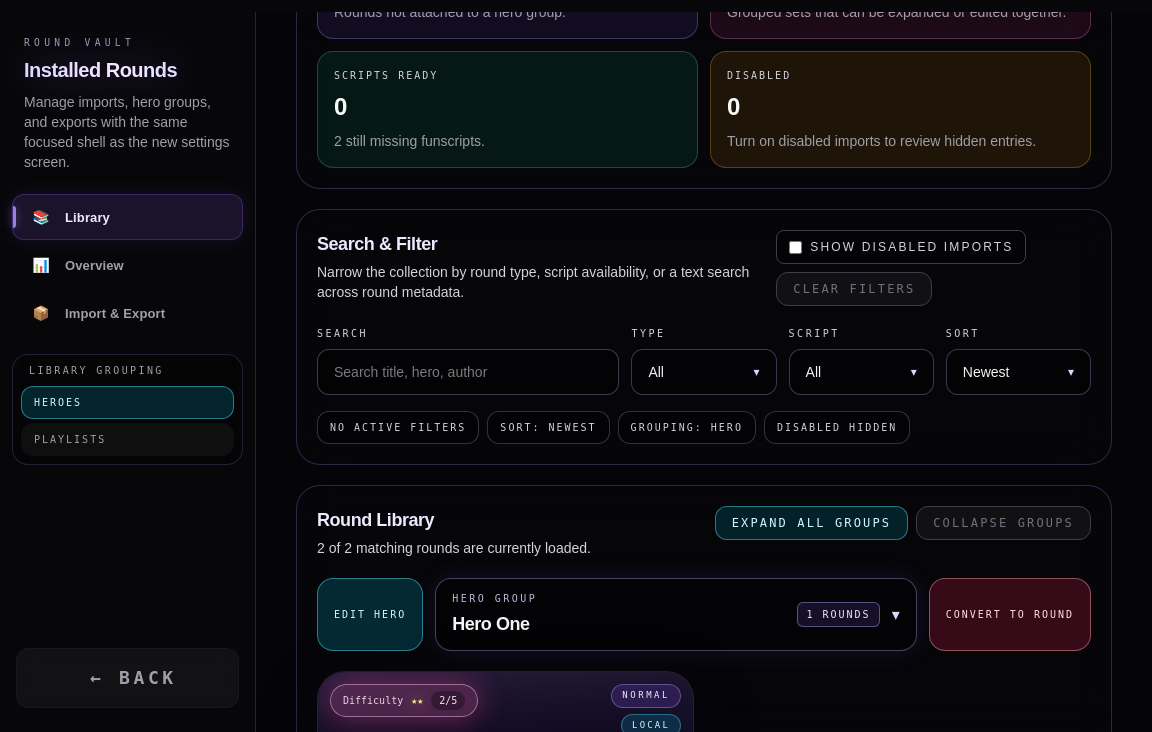
Scenario: InstalledRoundsPage hero grouping › updates grouped rows via filtering and preserves empty state
(page scrolled)
Type "solo" into the field with placeholder "Search title, hero, author" at (468, 372), box x1=317 y1=349 x2=619 y2=395
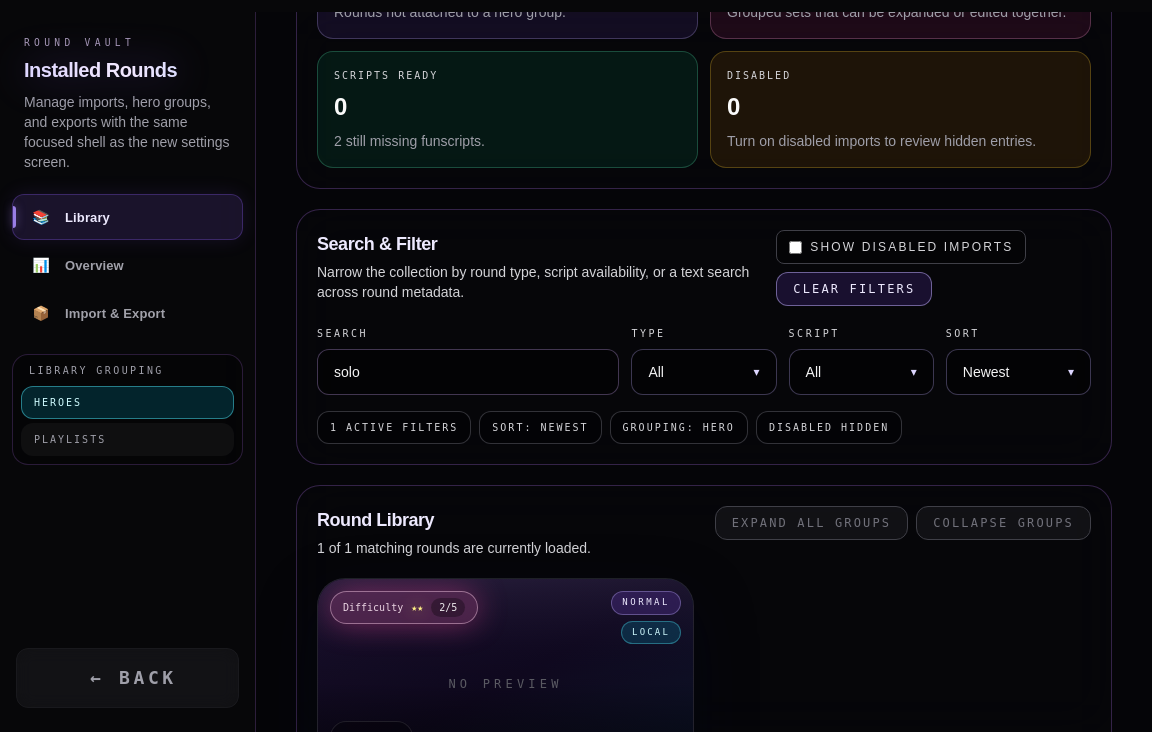
Expected: the button "Hero One (1 rounds)" is gone
Replace the text in the field with placeholder "Search title, hero, author" with "does-not-exist" at (468, 372), box x1=317 y1=349 x2=619 y2=395
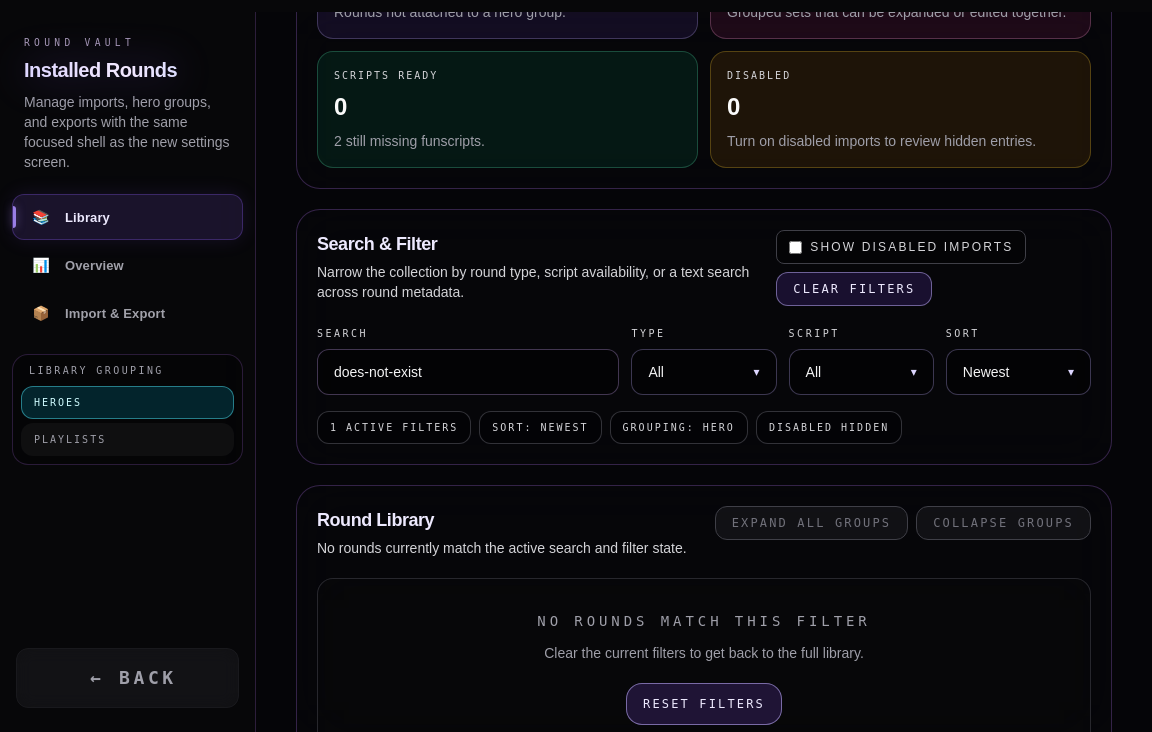
Expected: the text "No rounds match this filter" is shown, x1=537 y1=613 x2=871 y2=629
